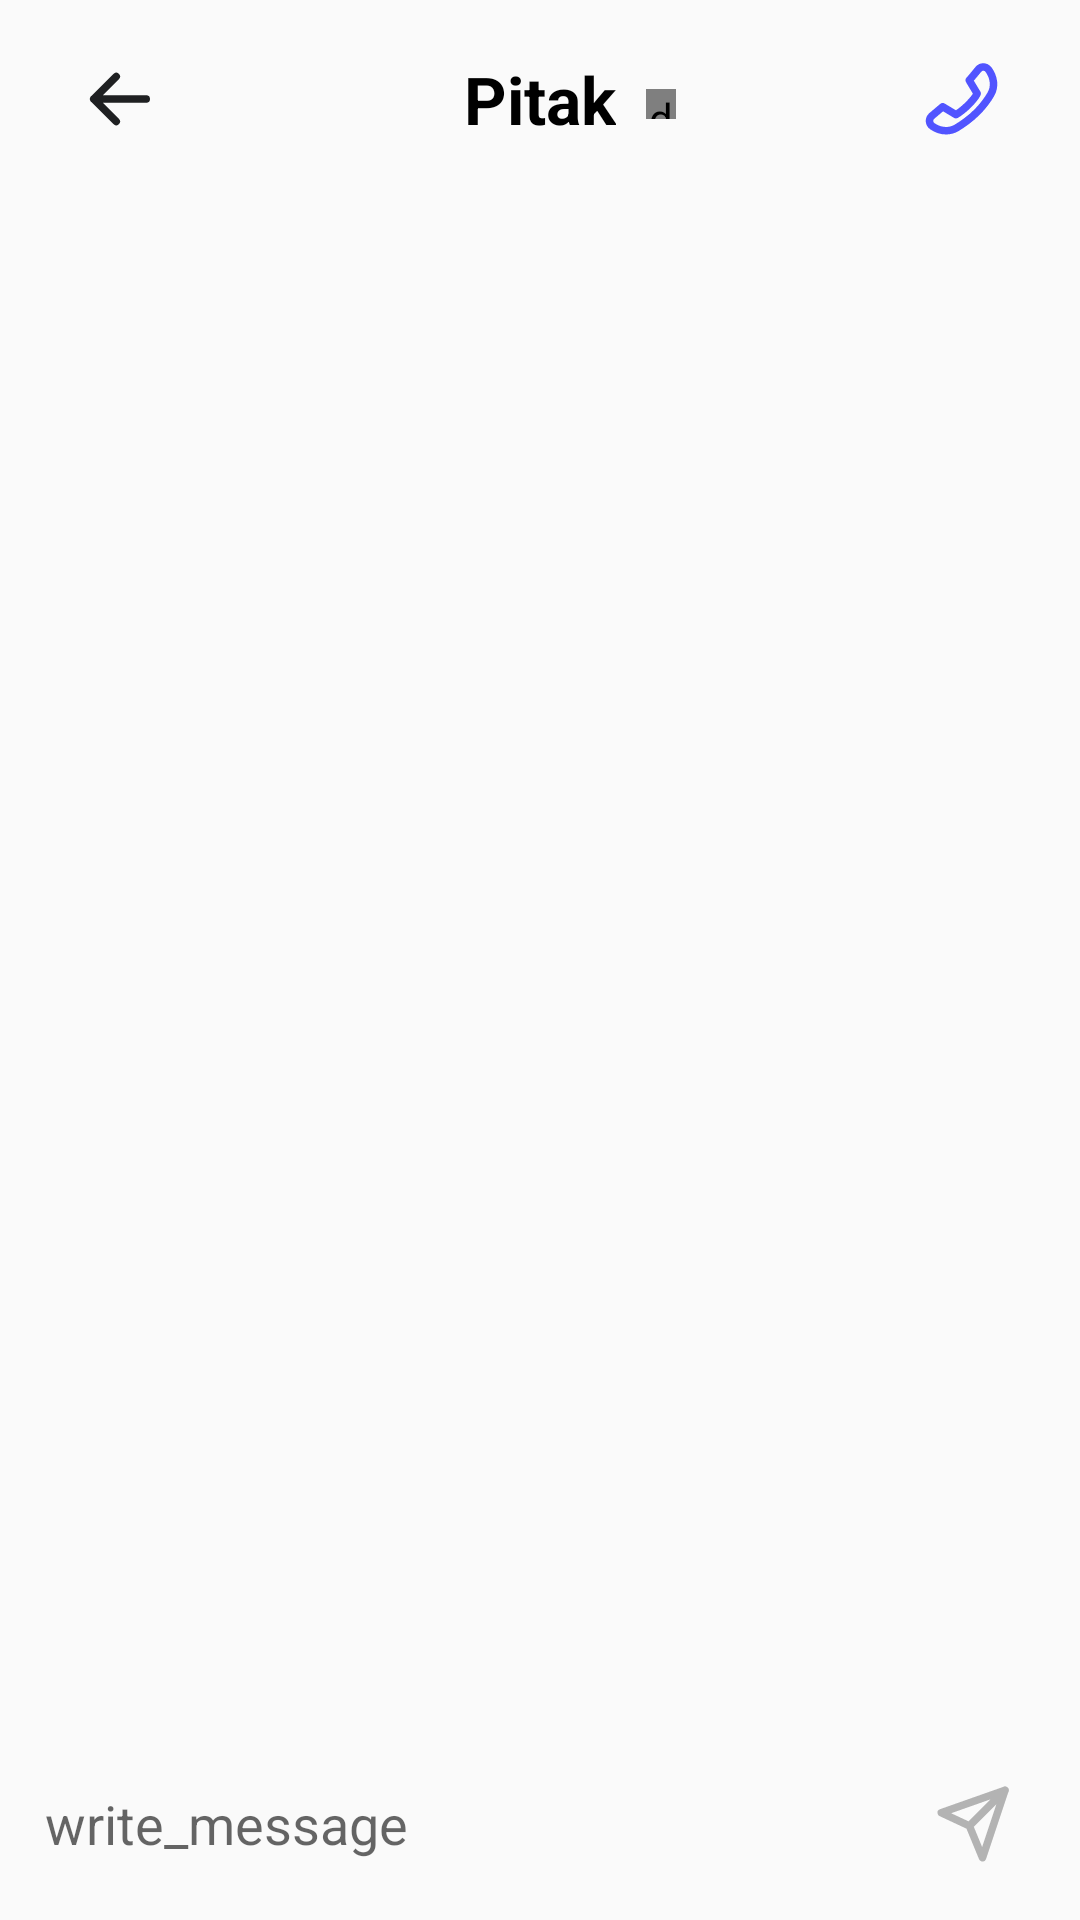

Where icons sit on this 1080×1920 app screen, as detection(x1, y1, x2, y2):
arrow left: detection(89, 72, 150, 126)
call: detection(925, 63, 998, 135)
send: detection(937, 1786, 1009, 1862)
